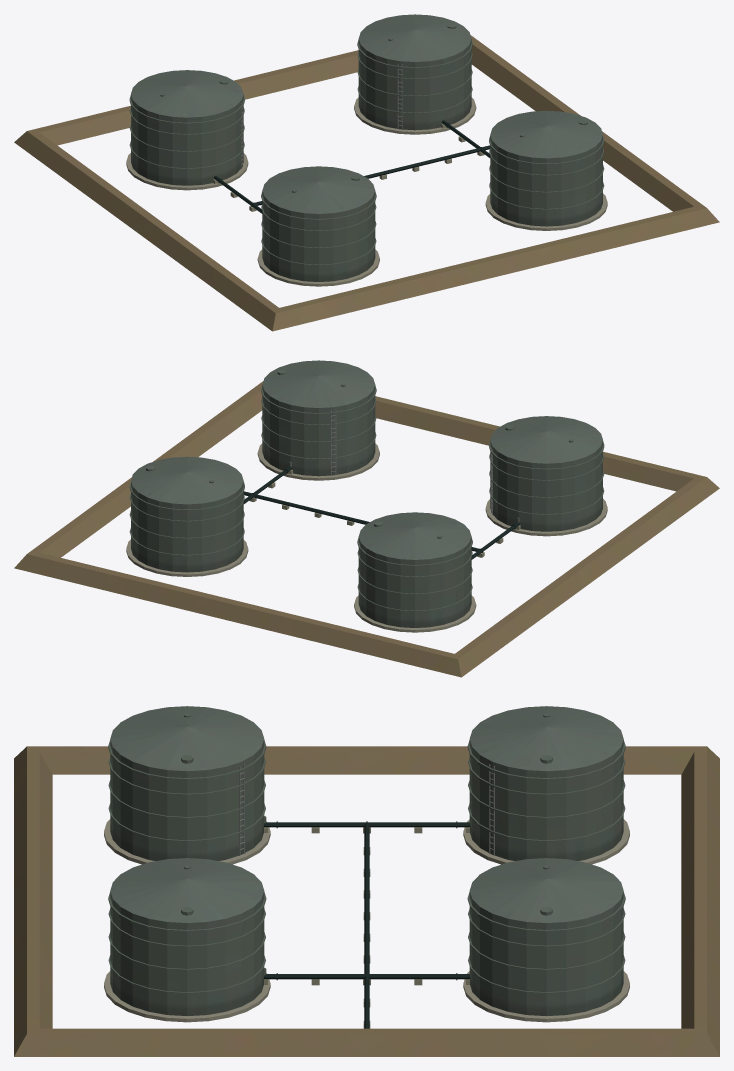
The model's file is fuel-tank-farm.glb.
The picture shows the model from 3 angles, top to bottom: view 1: azimuth 30°, elevation 25°; view 2: azimuth 150°, elevation 25°; view 3: azimuth 270°, elevation 25°; orthographic projection. The views are drawn at different scales.
Parts seen in each view (by area): view 1: fuel-tank-farm_concrete; view 2: fuel-tank-farm_concrete; view 3: fuel-tank-farm_concrete.
Part boxes in pixels (bbox=[...]): fuel-tank-farm_concrete: bbox=[14, 14, 719, 331]; fuel-tank-farm_concrete: bbox=[14, 360, 719, 677]; fuel-tank-farm_concrete: bbox=[14, 706, 719, 1056].
Bounding box in the file's own units: 55 × 9.3 × 55.
1 material, 1 textured.
